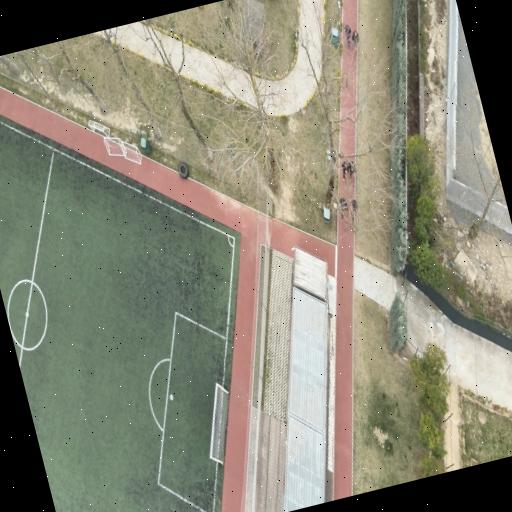person: (341, 161, 350, 180), (344, 25, 350, 47), (351, 31, 358, 46), (348, 161, 355, 175), (339, 198, 347, 210), (350, 200, 356, 215)
